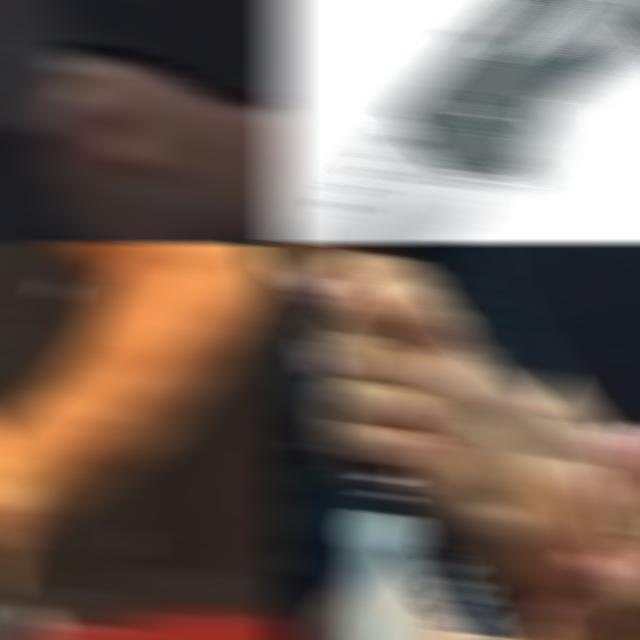Knife: (288, 0, 640, 244), (346, 464, 422, 640)
Knife_Handle: (302, 278, 466, 640), (0, 0, 224, 244)
